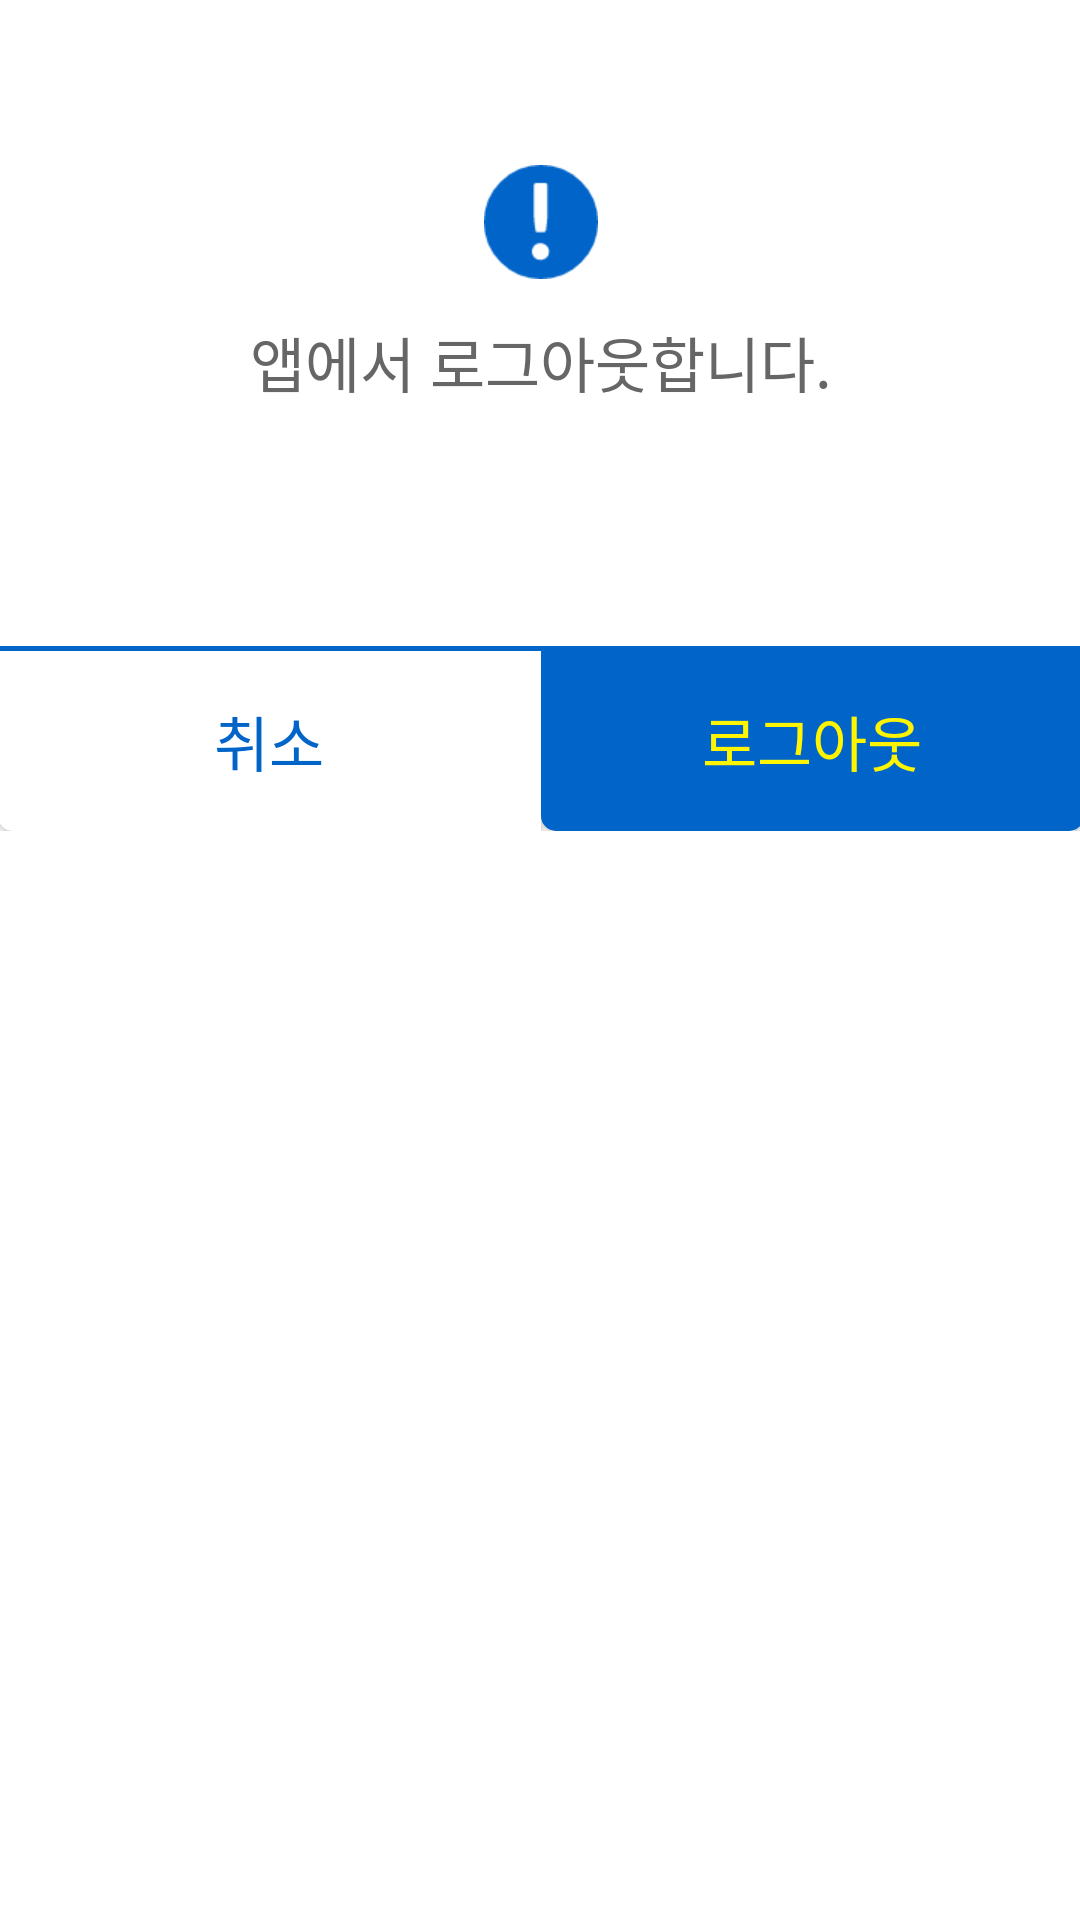

Named icons in this screenshot (1080px×1920px) and their bounding boxes, {"x1": x1, "y1": y1, "x2": x2, "y2": y2}:
warning: {"x1": 484, "y1": 165, "x2": 598, "y2": 279}
